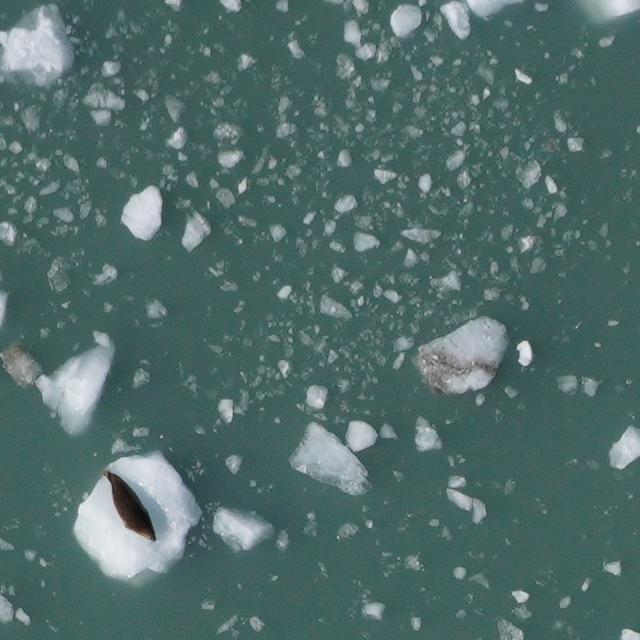seal: (99, 465, 161, 546)
